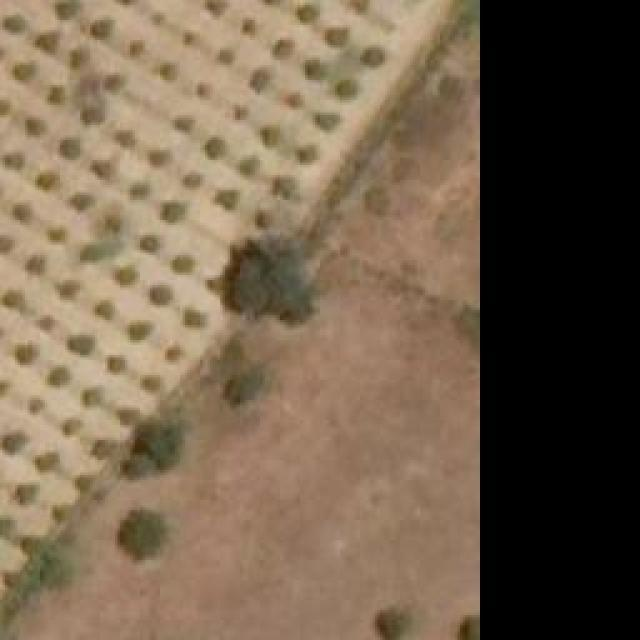Tree: (265, 242, 310, 320), (125, 510, 163, 548), (143, 425, 176, 463), (240, 258, 265, 308), (377, 607, 415, 635), (230, 373, 263, 403), (48, 547, 73, 585), (165, 398, 193, 428), (85, 238, 120, 261), (35, 30, 60, 53), (130, 455, 155, 475), (363, 45, 386, 65), (80, 105, 105, 123), (35, 452, 58, 470), (90, 440, 113, 458), (148, 150, 171, 168), (15, 60, 35, 80), (308, 58, 328, 78), (68, 338, 93, 353), (90, 20, 110, 38), (5, 15, 25, 33), (3, 432, 23, 450), (150, 285, 170, 303), (163, 202, 183, 220), (70, 192, 90, 210), (38, 170, 58, 188), (60, 138, 78, 158), (93, 160, 113, 178), (250, 70, 268, 90), (328, 27, 348, 45), (47, 85, 65, 103), (47, 367, 65, 385), (185, 310, 203, 328), (172, 255, 190, 273), (262, 127, 280, 145), (115, 130, 133, 148), (58, 3, 78, 18), (18, 343, 33, 363), (60, 283, 80, 298), (120, 408, 140, 423), (128, 323, 148, 338), (118, 268, 138, 283), (218, 193, 238, 208), (208, 140, 228, 155), (173, 118, 193, 133), (208, 0, 228, 15), (338, 80, 358, 95), (73, 47, 88, 65), (5, 293, 23, 308), (275, 180, 293, 195), (185, 173, 203, 188), (130, 183, 148, 198), (105, 215, 120, 233), (105, 73, 123, 88), (300, 5, 318, 20), (25, 538, 40, 553), (20, 485, 35, 500), (53, 505, 68, 520), (243, 160, 258, 175), (300, 145, 315, 160), (28, 118, 43, 133), (13, 205, 28, 220), (160, 63, 175, 78), (275, 43, 290, 58)
